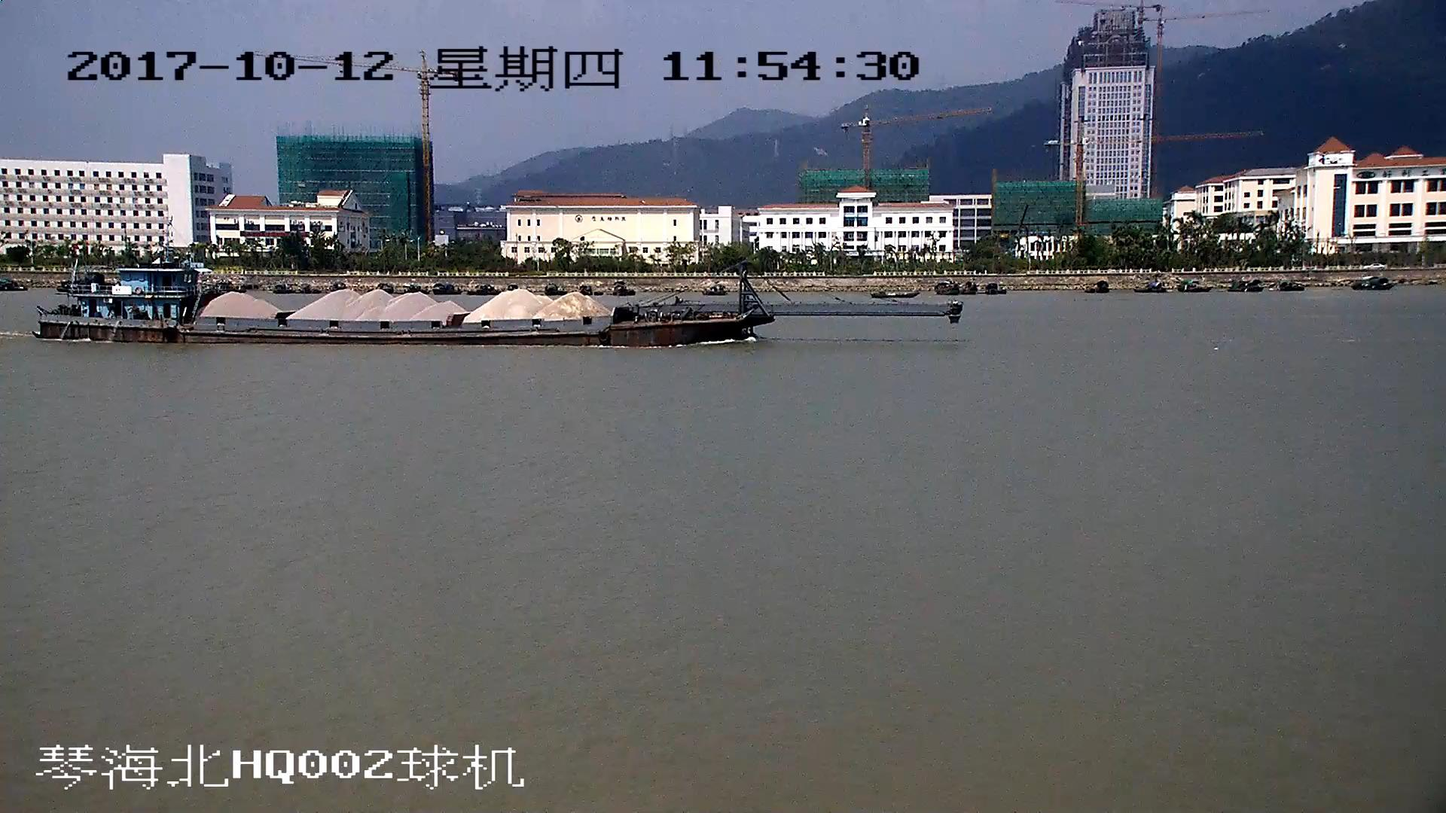ore carrier: (36, 259, 958, 344)
